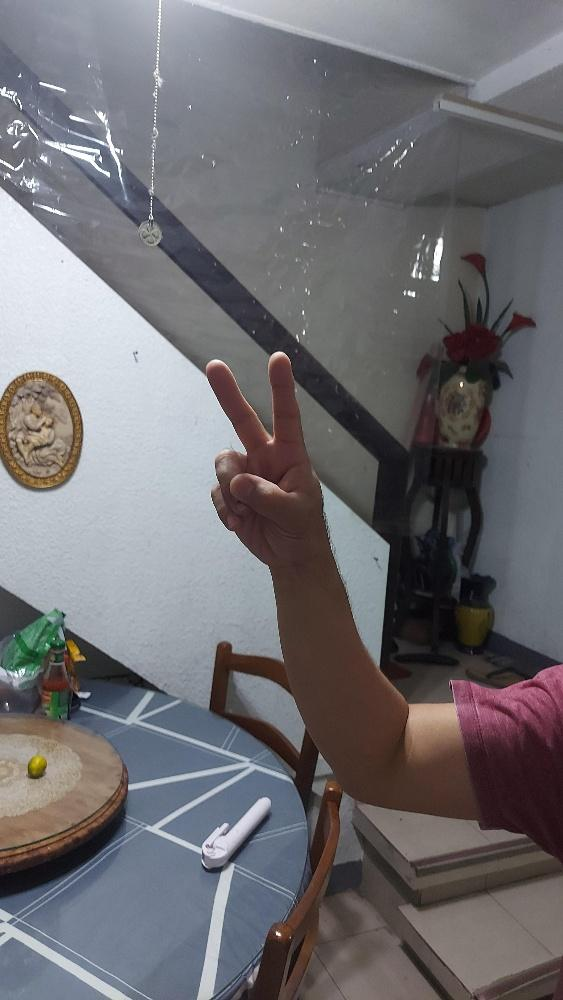v: (204, 349, 324, 567)
